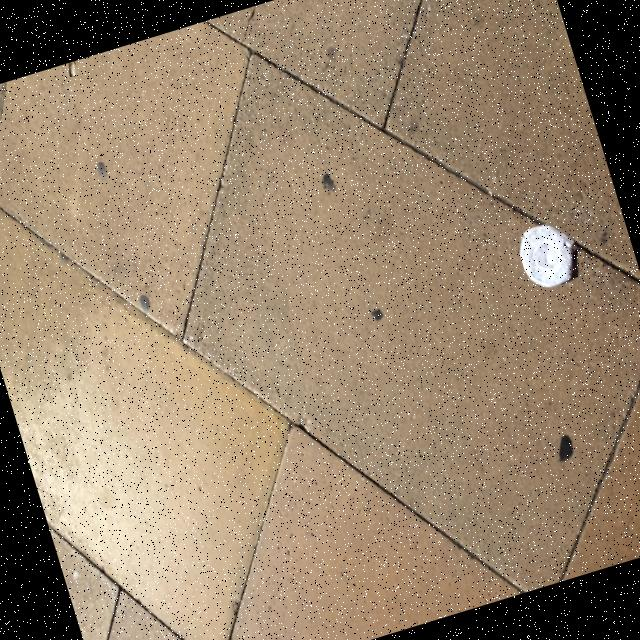Cigarette: (69, 63, 76, 76)
Plastic lid: (520, 225, 574, 286)
